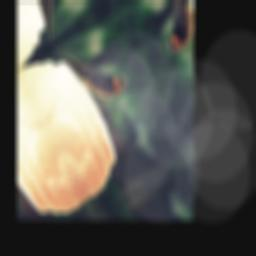Swallow: (52, 17, 131, 116)
